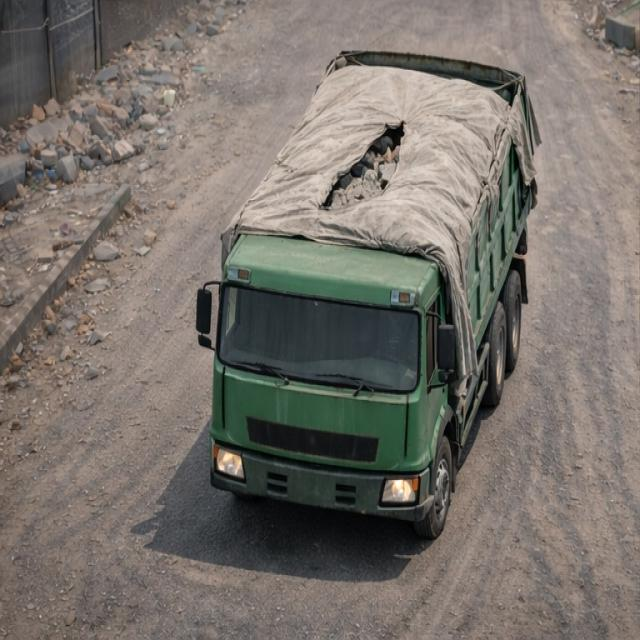trailer: (229, 49, 524, 233)
truck: (197, 42, 558, 528)
